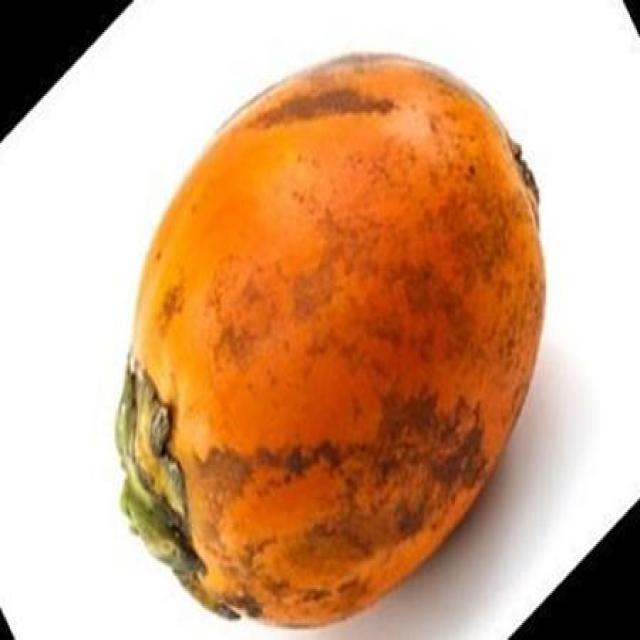good: (115, 55, 545, 625)
